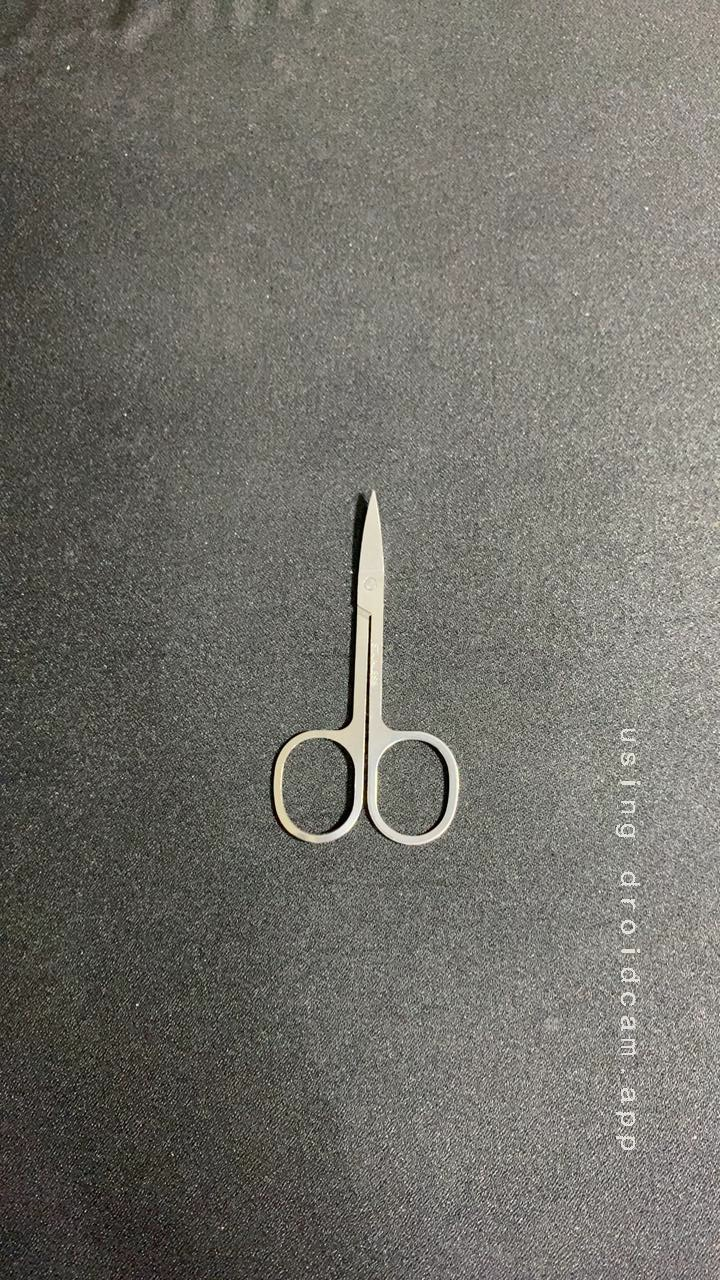scissor: (236, 482, 489, 860)
